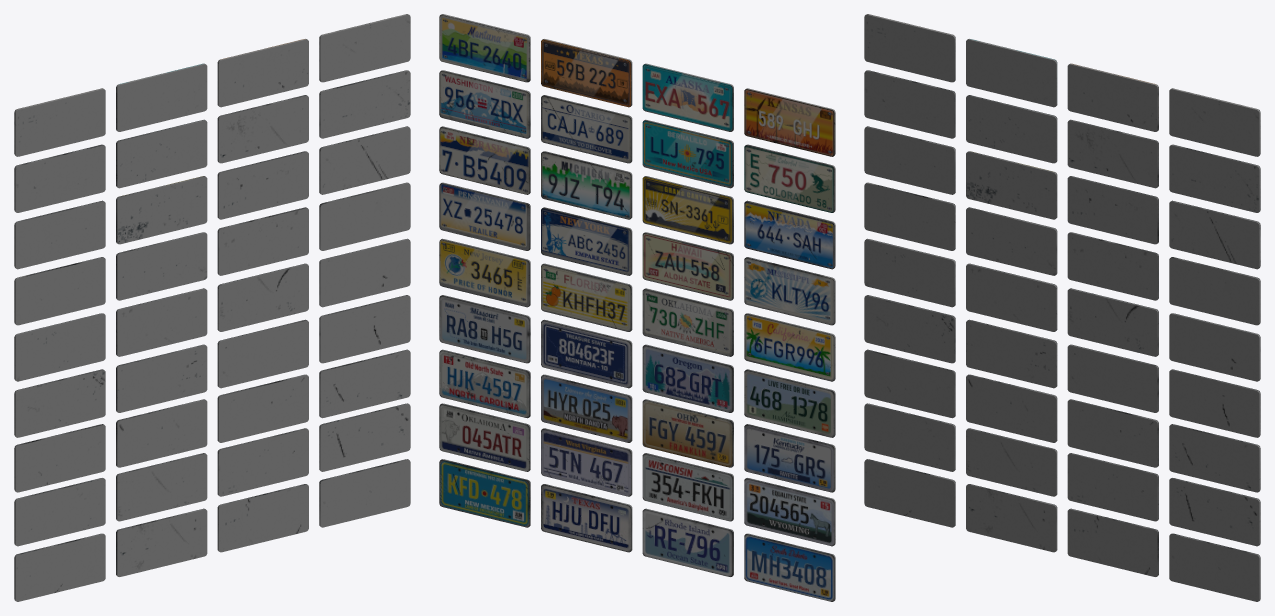
Rendered from Prop_CarPlates_x1.fbx.
3 views of the same model, side by side, from view 1: azimuth 30°, elevation 25°; view 2: azimuth 150°, elevation 25°; view 3: azimuth 330°, elevation 25° (orthographic).
Parts seen in each view (by area): view 1: Prop_CarPlates_x1; view 2: Prop_CarPlates_x1; view 3: Prop_CarPlates_x1.
Boxes of the visible parts, bbox=[...] form: Prop_CarPlates_x1: bbox=[14, 14, 410, 601]; Prop_CarPlates_x1: bbox=[439, 14, 835, 601]; Prop_CarPlates_x1: bbox=[864, 14, 1260, 601].
Bounding box in the file's own units: 115 × 137 × 0.6109.
